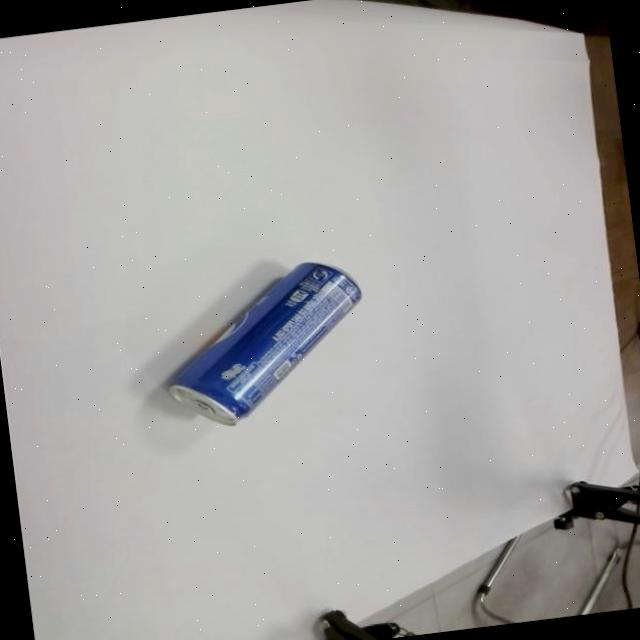debris: (152, 254, 377, 434)
